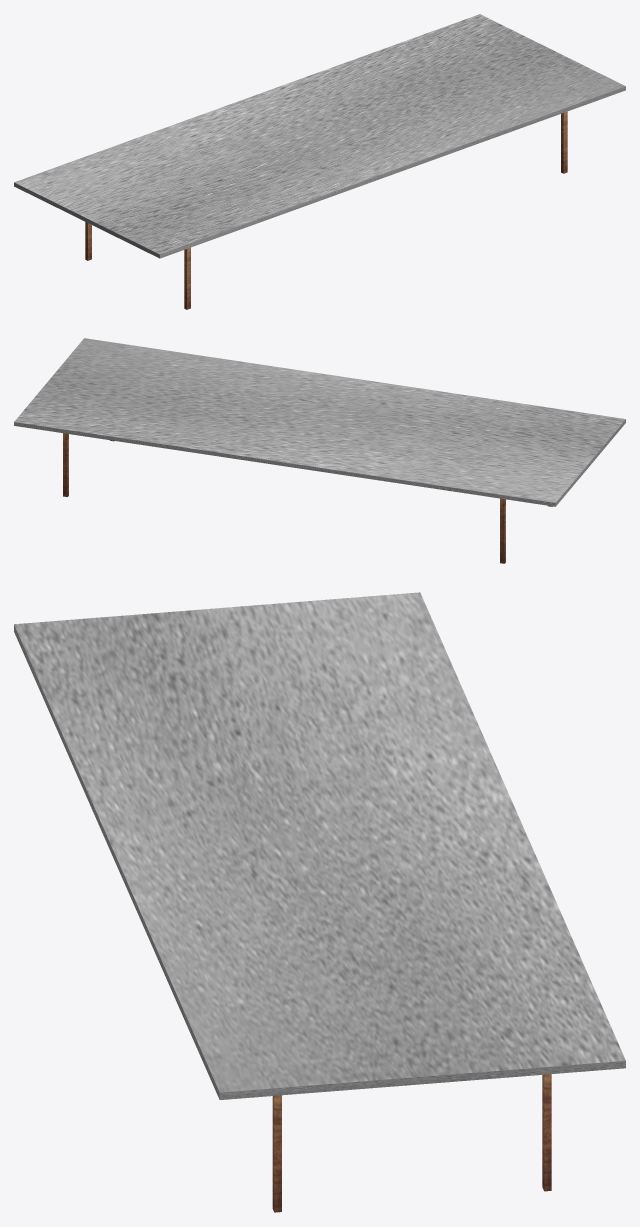
File: mesaDepa.obj
3 renders of one model, top to bottom at view 1: azimuth 30°, elevation 25°; view 2: azimuth 150°, elevation 25°; view 3: azimuth 270°, elevation 25°, orthographic. The views are drawn at different scales.
Visible parts, largest first — view 1: mesaDepa_pCube9; view 2: mesaDepa_pCube9; view 3: mesaDepa_pCube9.
Part boxes in pixels (x1=…): mesaDepa_pCube9: x1=14, y1=14, x2=625, y2=309; mesaDepa_pCube9: x1=14, y1=338, x2=625, y2=563; mesaDepa_pCube9: x1=14, y1=592, x2=625, y2=1212.
Bounding box in the file's own units: 13.84 × 2.05 × 7.15.
2 materials, 2 textured.
